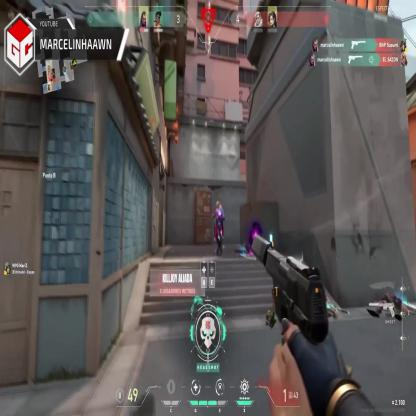enemy: (212, 201, 224, 256)
enemy_head: (216, 200, 221, 209)
